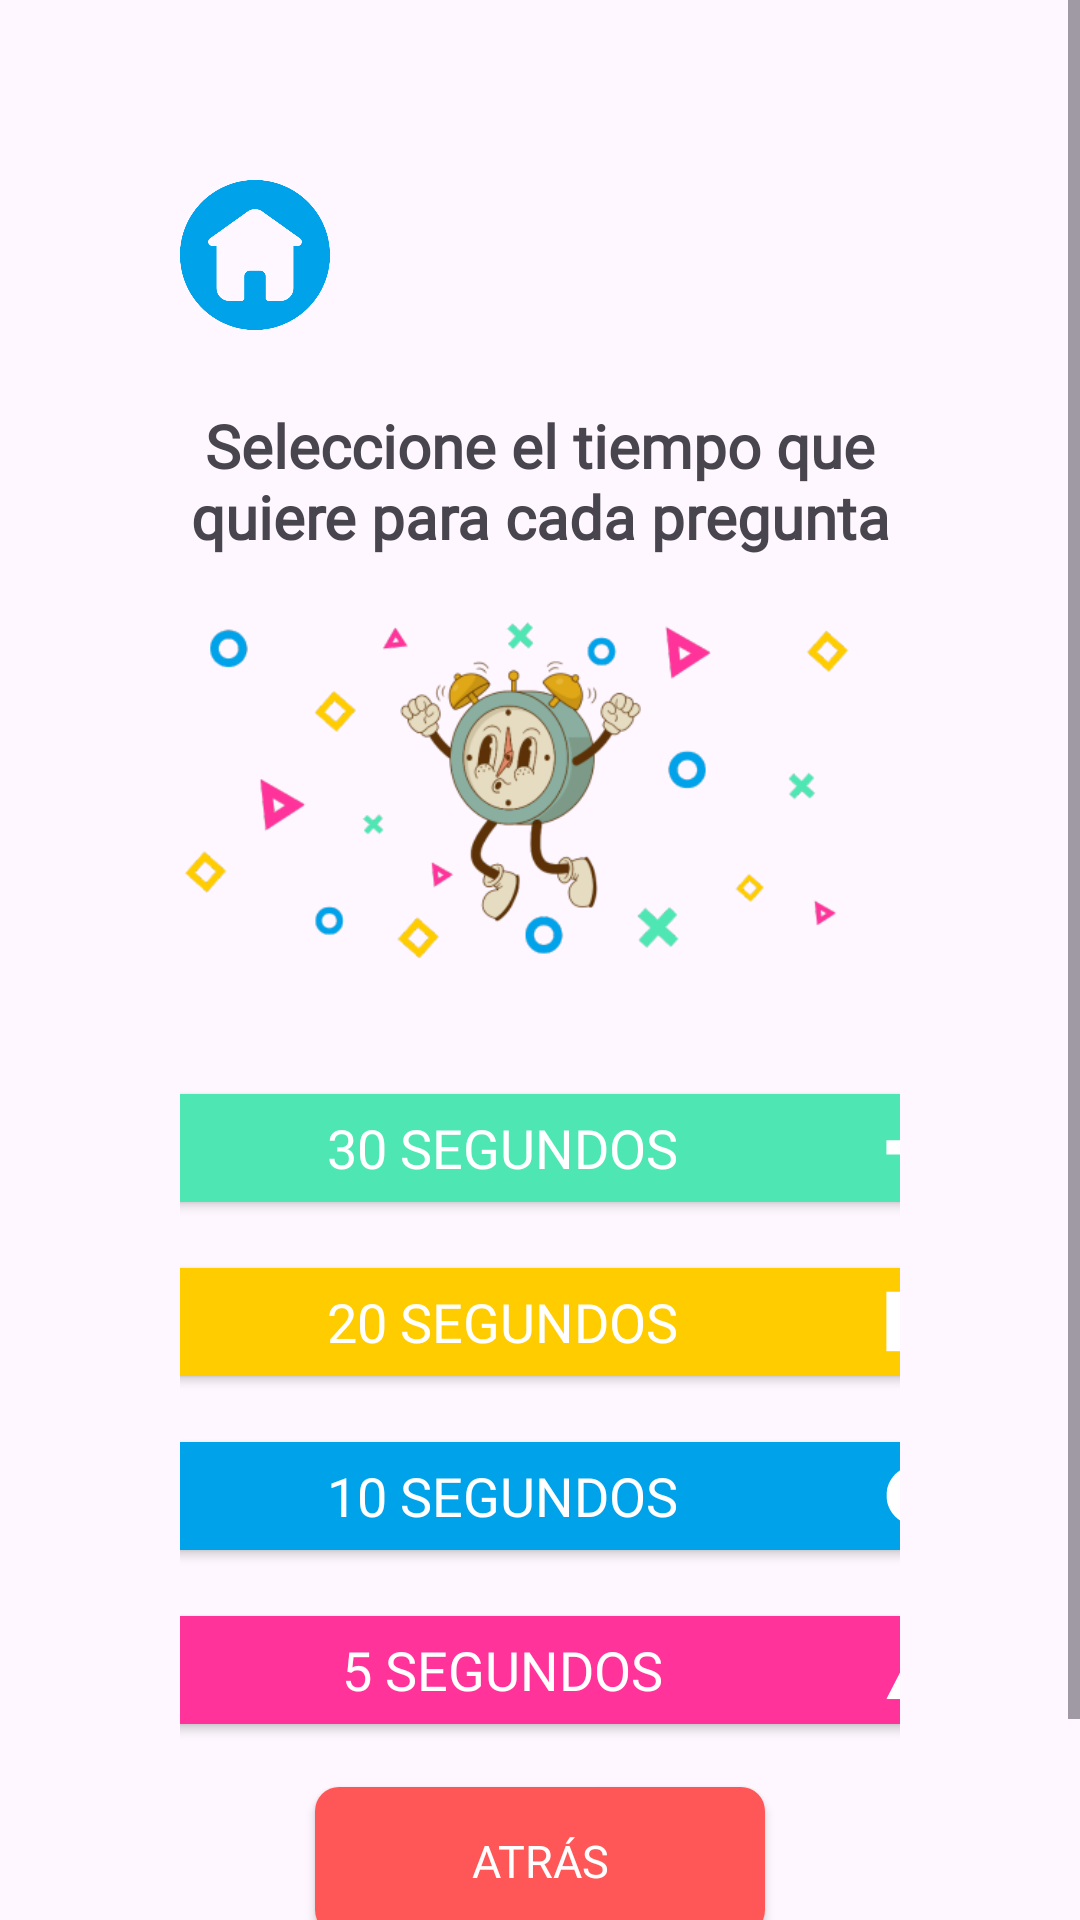

Named icons in this screenshot (1080w x 1920h) and their bounding boxes, (x1, y1, x2, y2):
home: (180, 180, 330, 330)
